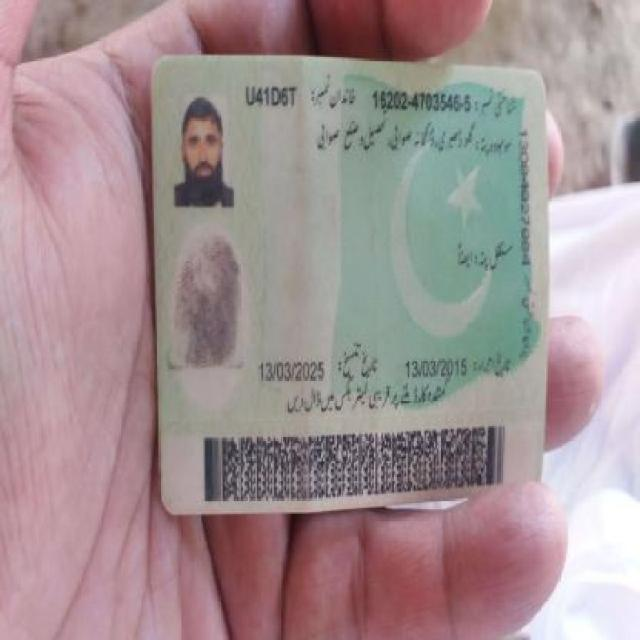Back: (145, 48, 548, 489)
